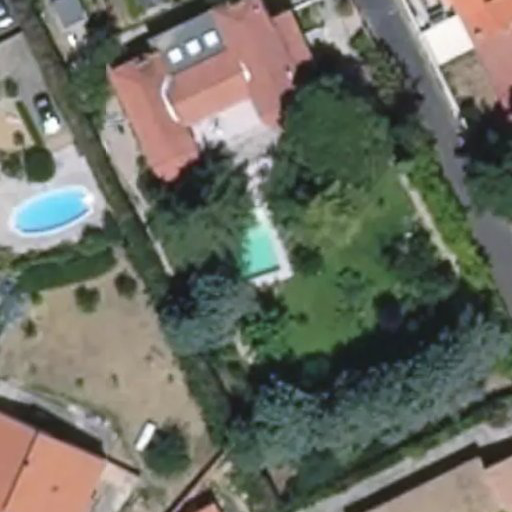pool: (218, 216, 282, 268)
